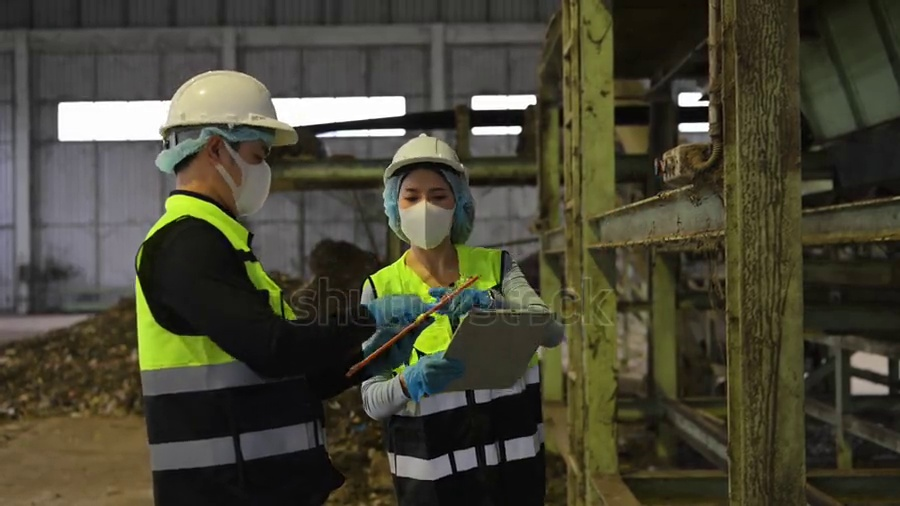helmet: (158, 68, 300, 151), (383, 134, 470, 182)
mask: (218, 152, 272, 217), (398, 198, 454, 250)
person: (132, 67, 480, 501), (358, 132, 565, 506)
